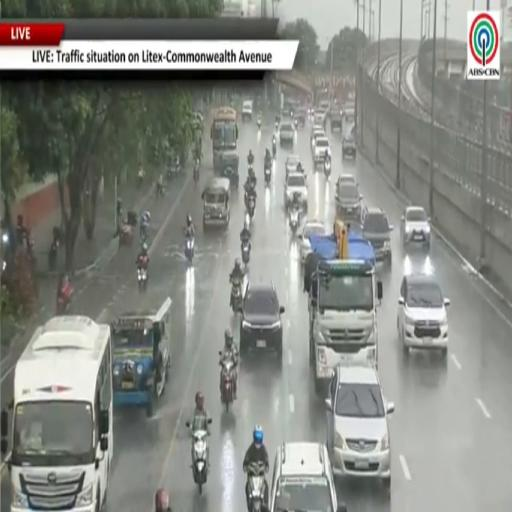bus: (9, 316, 113, 511), (211, 106, 238, 171)
car: (326, 364, 394, 489), (269, 442, 347, 511), (397, 274, 449, 357), (240, 282, 284, 361), (362, 207, 393, 267), (401, 206, 431, 249), (299, 220, 326, 263), (336, 183, 362, 222), (285, 171, 308, 211), (313, 137, 330, 167), (279, 121, 294, 147), (342, 135, 356, 158), (330, 107, 342, 132), (286, 155, 299, 178), (312, 130, 326, 151), (337, 174, 357, 186), (242, 100, 253, 121), (295, 107, 306, 125), (319, 100, 331, 115), (310, 124, 323, 137)
jeepney: (111, 298, 171, 417), (211, 106, 239, 173), (202, 178, 230, 228), (219, 151, 239, 188)
motorcycle: (192, 419, 211, 494), (247, 462, 267, 511), (219, 358, 234, 411), (56, 283, 73, 315), (48, 240, 59, 270), (231, 280, 241, 313), (289, 206, 299, 234), (137, 267, 148, 292), (185, 235, 194, 263), (241, 240, 250, 265), (171, 156, 181, 175), (248, 197, 255, 218), (324, 158, 331, 179), (194, 158, 199, 182), (156, 183, 164, 198), (141, 224, 147, 243), (272, 139, 277, 159), (265, 167, 270, 186), (248, 164, 253, 175), (257, 118, 261, 130), (294, 119, 298, 130), (275, 121, 278, 132)
truck: (307, 220, 382, 393)
